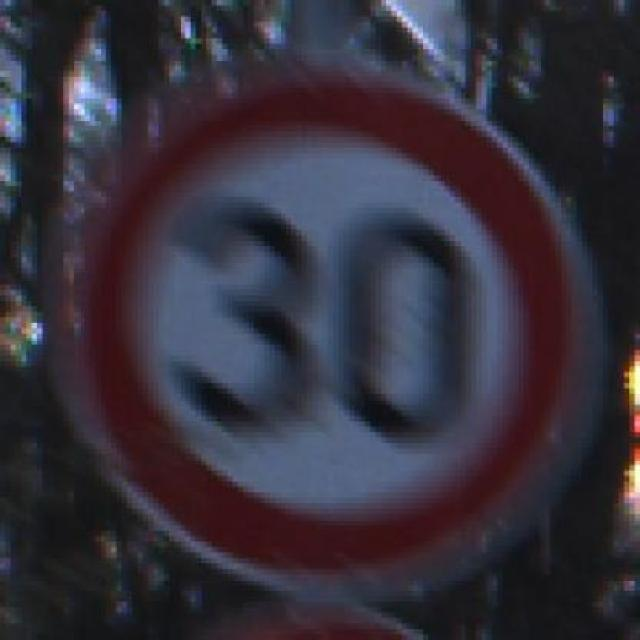Speed Limit 30 KMPh: (42, 55, 630, 613)
